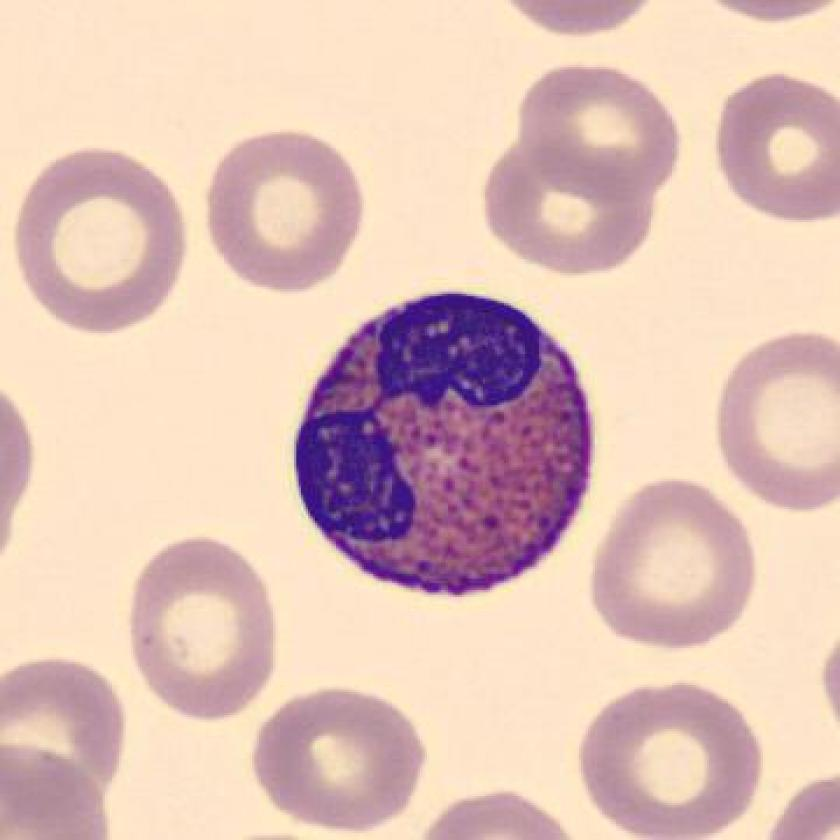eosinophil: (281, 286, 615, 607)
